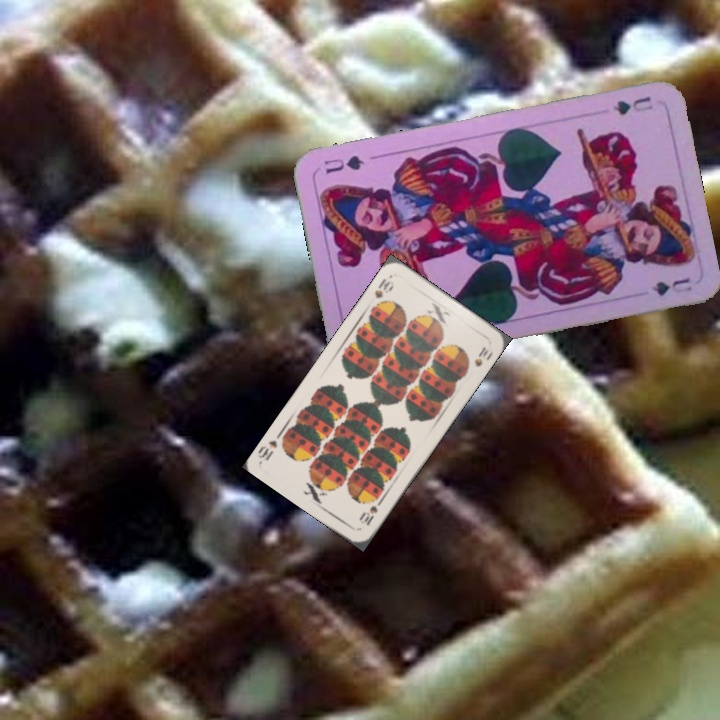GU: (609, 92, 655, 118)
S10: (357, 495, 385, 528), (370, 274, 395, 301)
